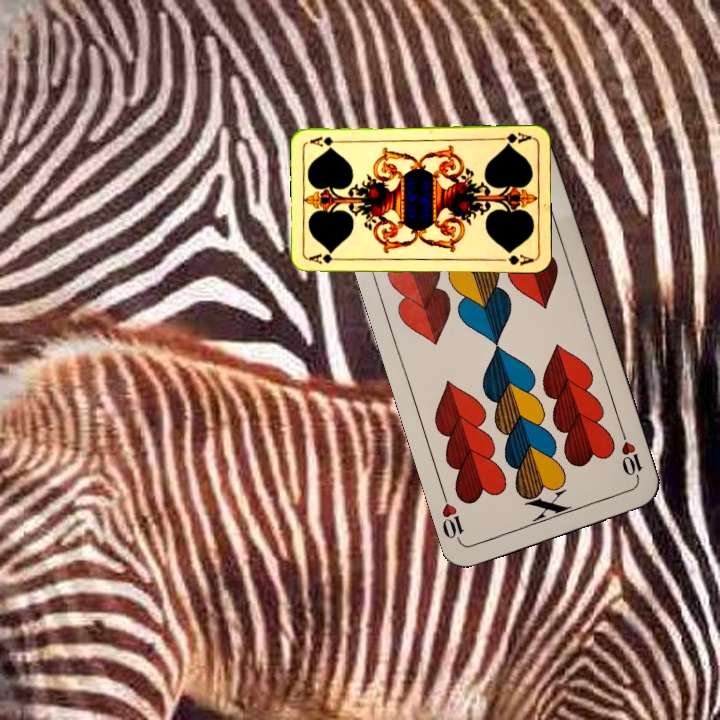GA: (494, 128, 534, 148), (306, 250, 346, 267)
H10: (617, 428, 646, 486)
